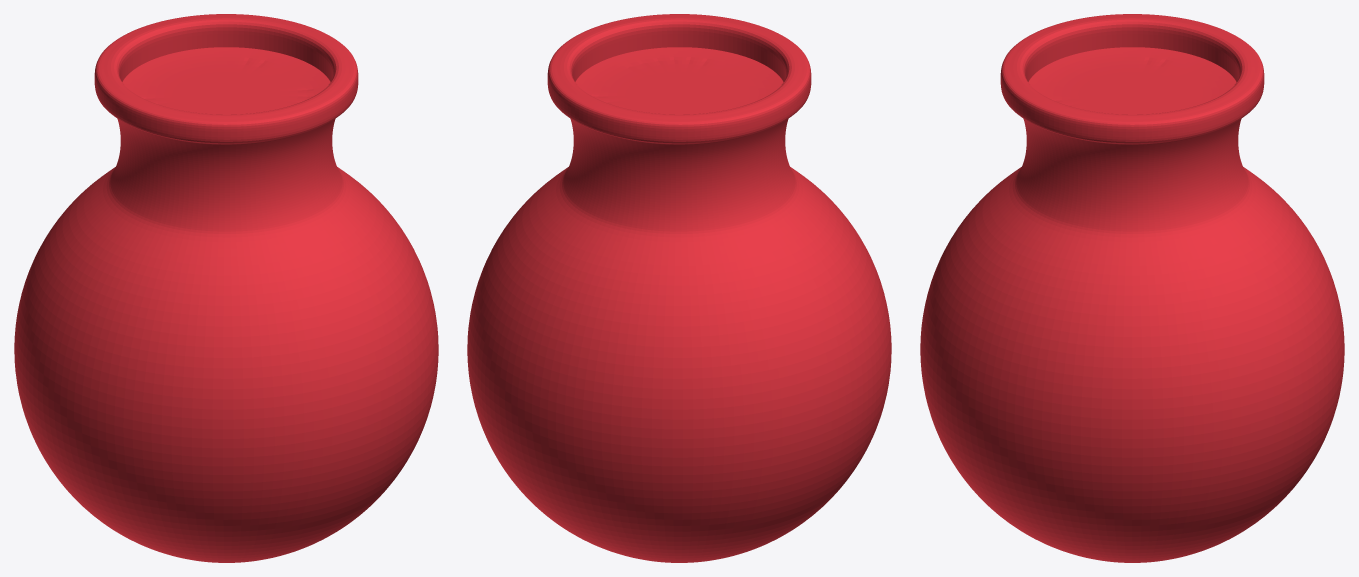
File: potion.fbx
3 renders of one model, left to right at view 1: azimuth 30°, elevation 25°; view 2: azimuth 150°, elevation 25°; view 3: azimuth 270°, elevation 25°, orthographic.
Parts seen in each view (by area): view 1: Sphere; view 2: Sphere; view 3: Sphere.
Boxes of the visible parts, <box> form: Sphere: <box>14,14,438,562</box>; Sphere: <box>467,14,891,562</box>; Sphere: <box>920,14,1344,562</box>.
Bounding box in the file's own units: 197 × 244 × 197.
